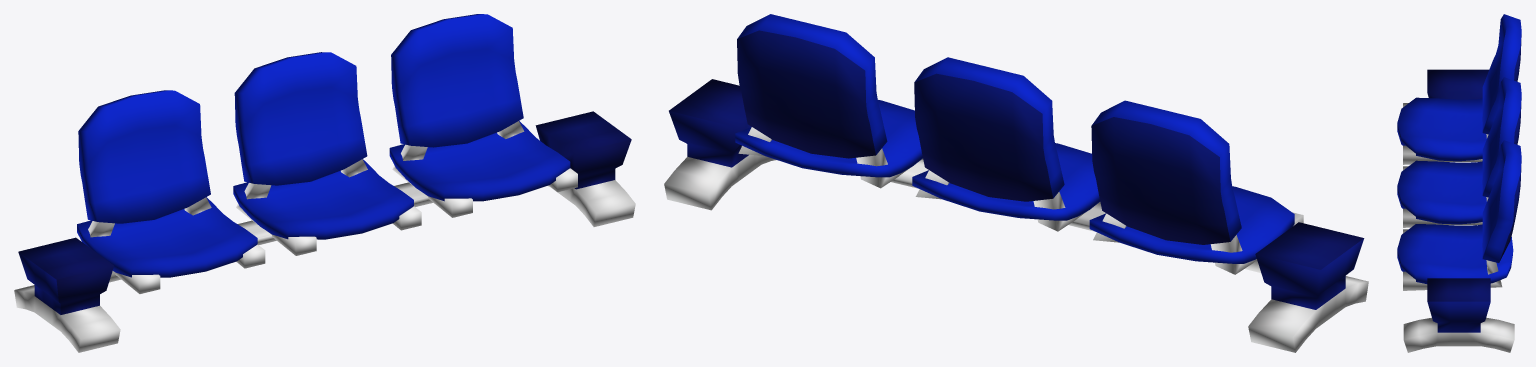
Rendered from CadeirasHospitalar3Lugares.fbx.
3 renders of one model, left to right at view 1: azimuth 30°, elevation 25°; view 2: azimuth 150°, elevation 25°; view 3: azimuth 270°, elevation 25°, orthographic. The views are drawn at different scales.
Parts seen in each view (by area): view 1: CadeirasHospitalar3Lugares; view 2: CadeirasHospitalar3Lugares; view 3: CadeirasHospitalar3Lugares.
Part boxes in pixels (x1,y1,x2,y2): CadeirasHospitalar3Lugares: [14, 14, 635, 352]; CadeirasHospitalar3Lugares: [664, 14, 1368, 352]; CadeirasHospitalar3Lugares: [1397, 14, 1521, 352].
Size of the model in its own units: 252 by 77.04 by 57.12.
Materials: 1 (1 with a texture image).
